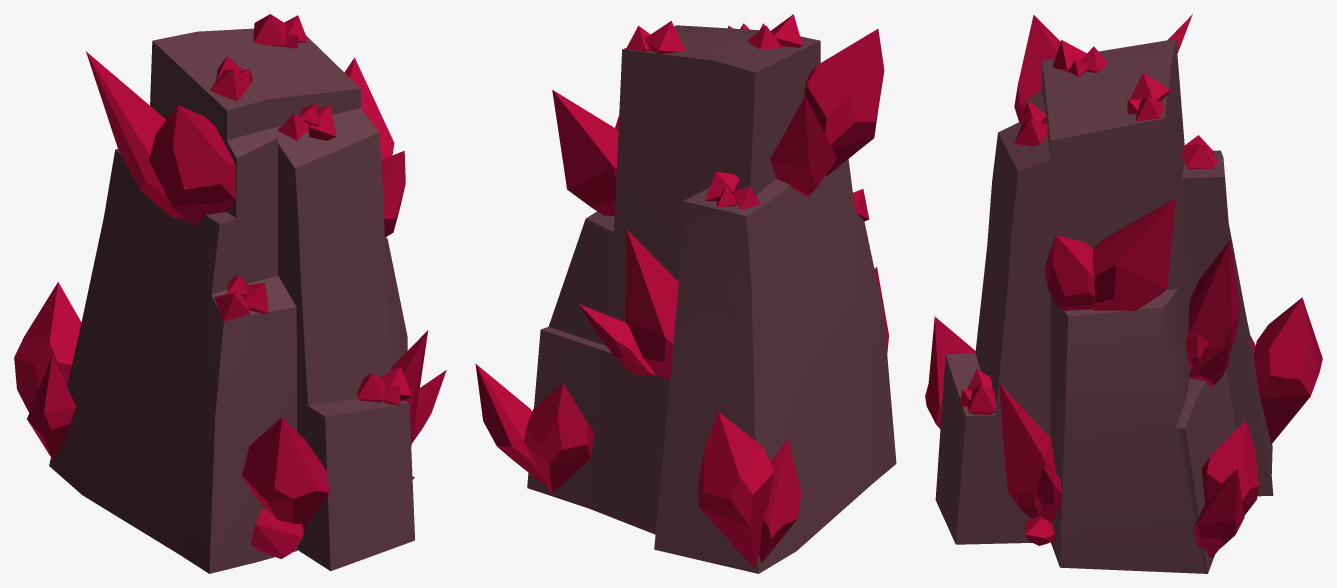
The model's file is Minerai03.fbx.
3 views of the same model, side by side, from view 1: azimuth 30°, elevation 25°; view 2: azimuth 150°, elevation 25°; view 3: azimuth 270°, elevation 25° (orthographic). The views are drawn at different scales.
Visible parts, largest first — view 1: Minerai03; view 2: Minerai03; view 3: Minerai03.
Boxes of the visible parts, x1,y1,x2,y2 form: Minerai03: (14,14,446,573); Minerai03: (475,14,896,573); Minerai03: (925,14,1322,573).
Bounding box in the file's own units: 231 × 319 × 255.
